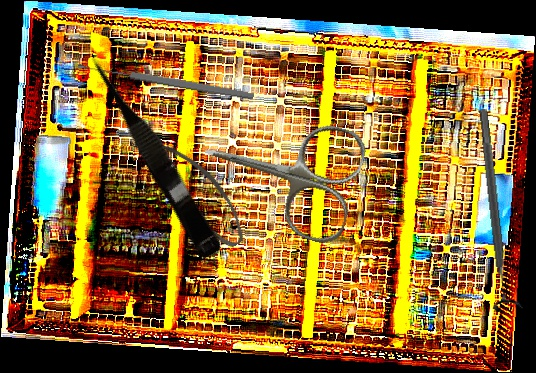Cannula: (128, 113, 255, 263)
Fixation Ring: (467, 107, 524, 313)
Iris Scissors: (189, 94, 371, 248)
Micro Scissor: (82, 47, 228, 261)
Surgical Spoon: (77, 60, 255, 102)
